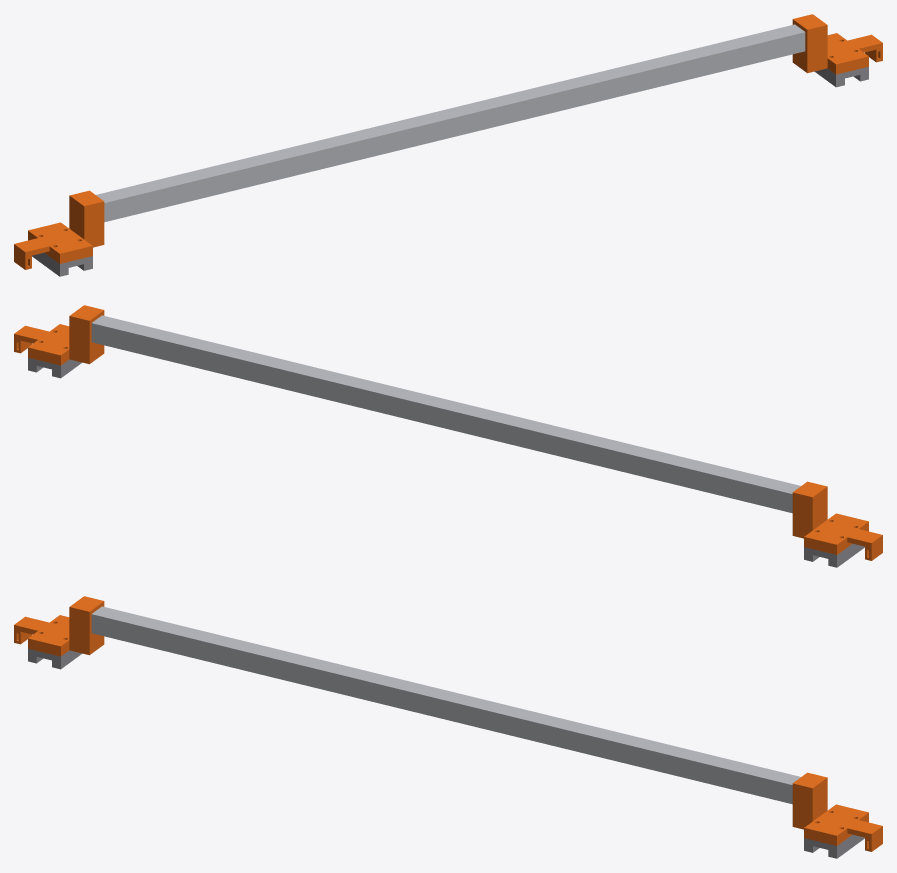
Rendered from pusher_yp.glb.
The picture shows the model from 3 angles, top to bottom: view 1: azimuth 30°, elevation 25°; view 2: azimuth 150°, elevation 25°; view 3: azimuth 330°, elevation 25°; orthographic projection.
Visible parts, largest first — view 1: dock_bar_y+1, dock_bar_bracket_high_outer_y+1-1, dock_bar_bracket_high_outer_y+1+1, dockREF_carriage_y+1-1, dockREF_carriage_y+1+1; view 2: dock_bar_y+1, dock_bar_bracket_high_outer_y+1-1, dock_bar_bracket_high_outer_y+1+1, dockREF_carriage_y+1-1, dockREF_carriage_y+1+1; view 3: dock_bar_y+1, dock_bar_bracket_high_outer_y+1+1, dock_bar_bracket_high_outer_y+1-1, dockREF_carriage_y+1+1, dockREF_carriage_y+1-1.
Part boxes in pixels (x1=…): dock_bar_y+1: x1=96, y1=24, x2=805, y2=222; dock_bar_bracket_high_outer_y+1-1: x1=14, y1=190, x2=104, y2=269; dock_bar_bracket_high_outer_y+1+1: x1=792, y1=14, x2=882, y2=74; dockREF_carriage_y+1-1: x1=32, y1=252, x2=92, y2=276; dockREF_carriage_y+1+1: x1=814, y1=66, x2=868, y2=87; dock_bar_y+1: x1=91, y1=315, x2=800, y2=513; dock_bar_bracket_high_outer_y+1-1: x1=792, y1=481, x2=882, y2=560; dock_bar_bracket_high_outer_y+1+1: x1=14, y1=305, x2=104, y2=365; dockREF_carriage_y+1-1: x1=804, y1=543, x2=864, y2=567; dockREF_carriage_y+1+1: x1=28, y1=357, x2=82, y2=378; dock_bar_y+1: x1=91, y1=606, x2=800, y2=804; dock_bar_bracket_high_outer_y+1+1: x1=792, y1=772, x2=882, y2=851; dock_bar_bracket_high_outer_y+1-1: x1=14, y1=596, x2=104, y2=656; dockREF_carriage_y+1+1: x1=804, y1=834, x2=864, y2=858; dockREF_carriage_y+1-1: x1=28, y1=648, x2=82, y2=669.
Bounding box in the file's own units: 703 × 44 × 45.4.
